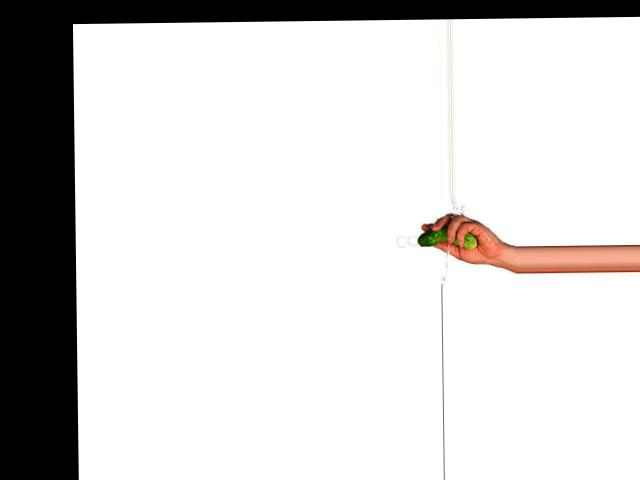cucumber: (417, 226, 477, 248)
